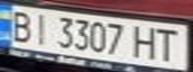0: (87, 19, 109, 54)
3: (51, 13, 75, 51), (69, 17, 90, 52)
7: (106, 20, 130, 56)
B: (3, 8, 36, 43)
H: (130, 24, 163, 61)
I: (27, 10, 54, 46)
T: (151, 26, 184, 62)
